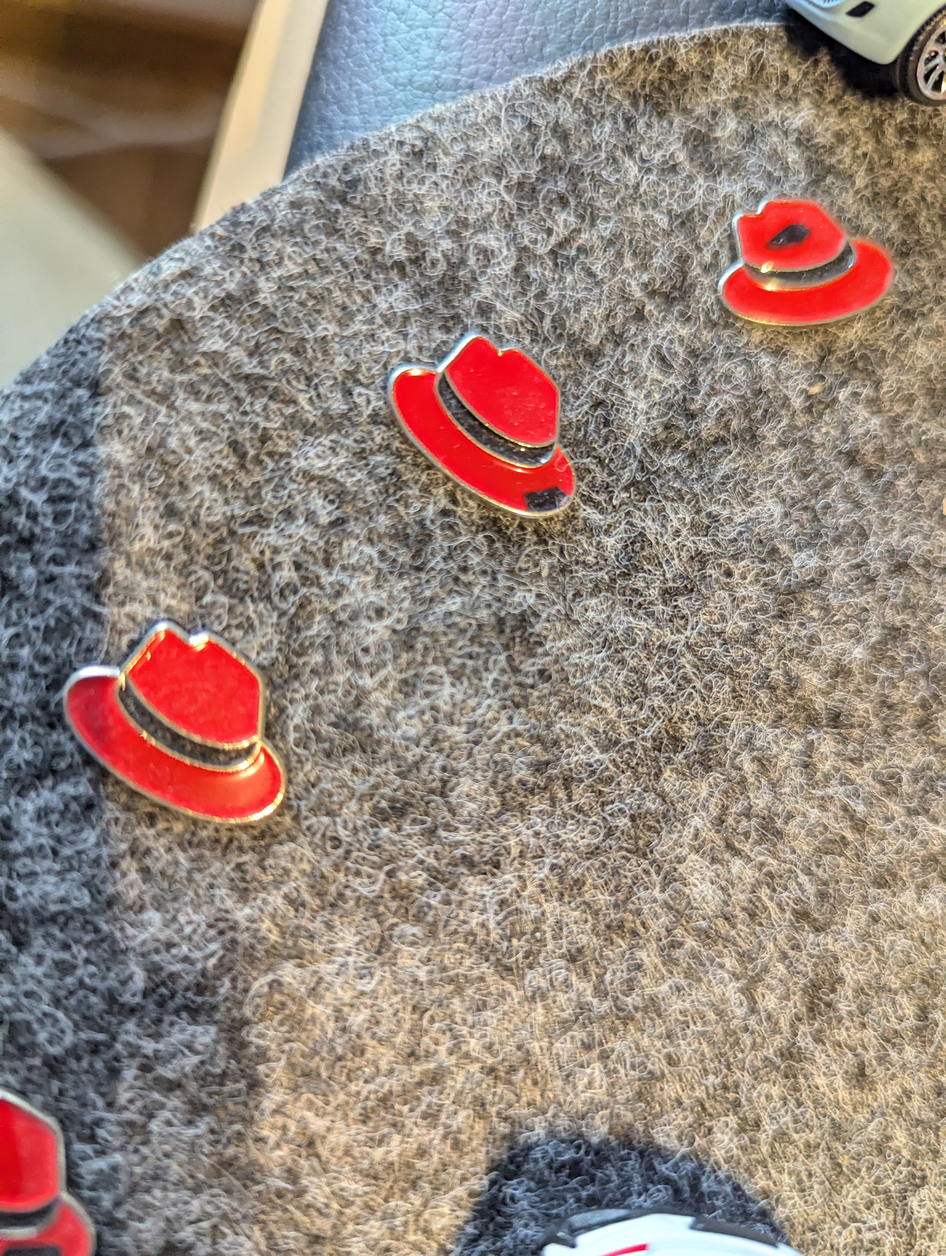Red-Hat: (39, 594, 338, 847), (357, 295, 609, 546), (694, 168, 914, 360)
Scratch: (508, 473, 586, 527), (749, 210, 828, 256)
